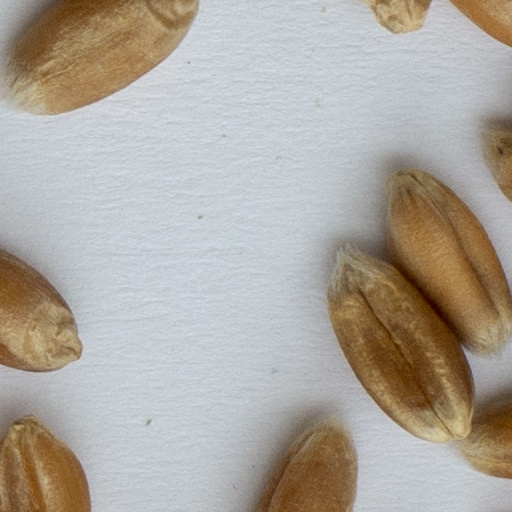Wheat-grain-poly: (327, 245, 469, 442), (0, 0, 200, 123), (386, 167, 511, 363), (0, 248, 78, 369), (337, 0, 433, 39), (477, 121, 511, 205), (454, 0, 511, 47)
